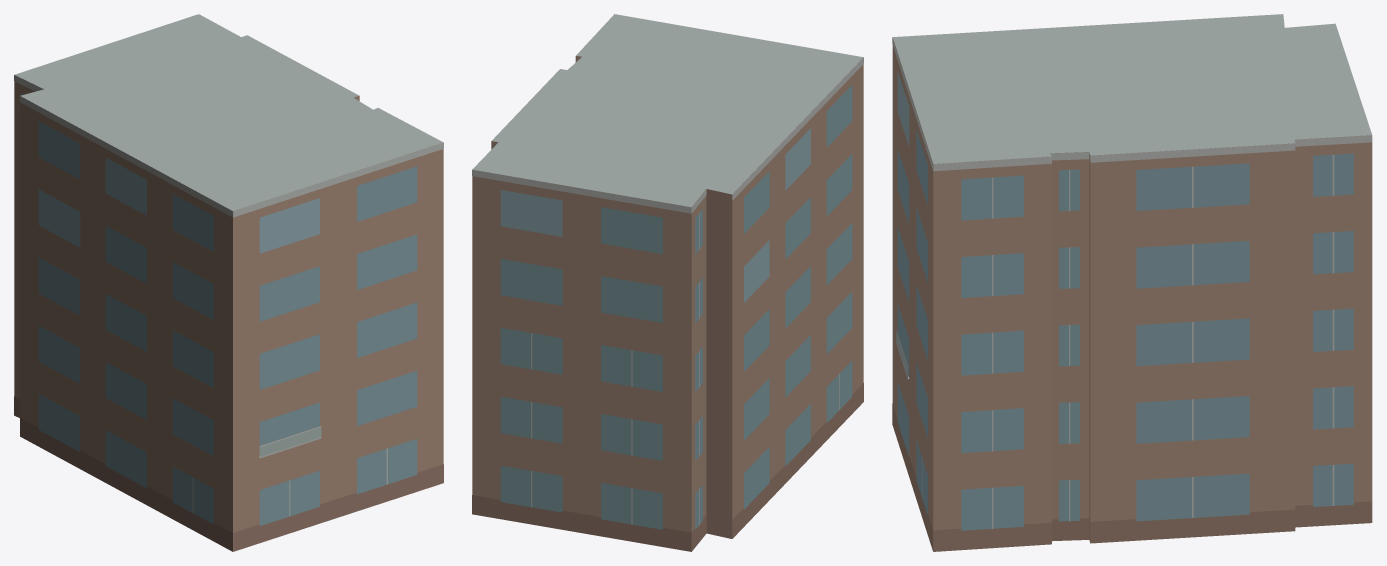
Rendered from survey-upis-32966238.glb.
3 renders of one model, left to right at view 1: azimuth 30°, elevation 25°; view 2: azimuth 150°, elevation 25°; view 3: azimuth 270°, elevation 25°, orthographic. The views are drawn at different scales.
Parts seen in each view (by area): view 1: survey-upis-32966238.tmp; view 2: survey-upis-32966238.tmp; view 3: survey-upis-32966238.tmp.
Part boxes in pixels (box(x1,y1,x2,y2)): survey-upis-32966238.tmp: box(14, 14, 443, 551); survey-upis-32966238.tmp: box(472, 14, 863, 551); survey-upis-32966238.tmp: box(892, 14, 1372, 551).
Bounding box in the file's own units: 10.88 × 13.1 × 14.7.
